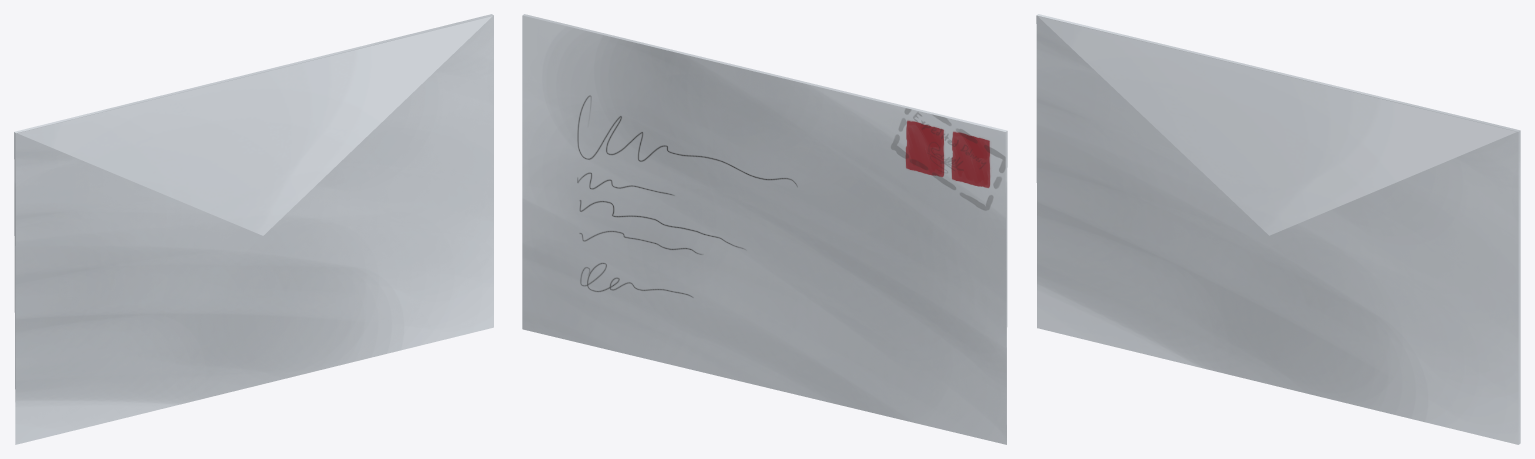
The model's file is letter-transformed.glb.
3 renders of one model, left to right at view 1: azimuth 30°, elevation 25°; view 2: azimuth 150°, elevation 25°; view 3: azimuth 330°, elevation 25°, orthographic.
Visible parts, largest first — view 1: Cube, Plane; view 2: Cube; view 3: Cube, Plane.
Boxes of the visible parts, x1=… form: Cube: x1=14, y1=14, x2=493, y2=444; Plane: x1=18, y1=16, x2=492, y2=235; Cube: x1=522, y1=14, x2=1007, y2=444; Cube: x1=1036, y1=14, x2=1520, y2=444; Plane: x1=1038, y1=16, x2=1516, y2=235.
Bounding box in the file's own units: 3.21 × 2 × 0.1262.
Materials: 1 (1 with a texture image).
